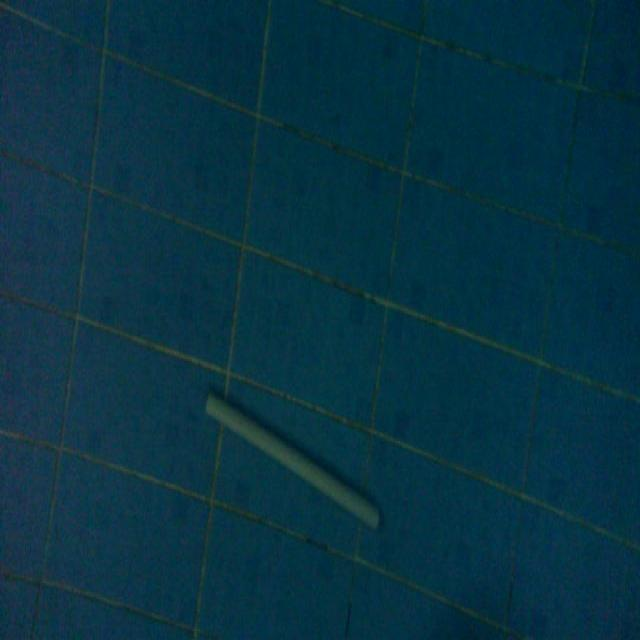Cube: (203, 384, 382, 533)
